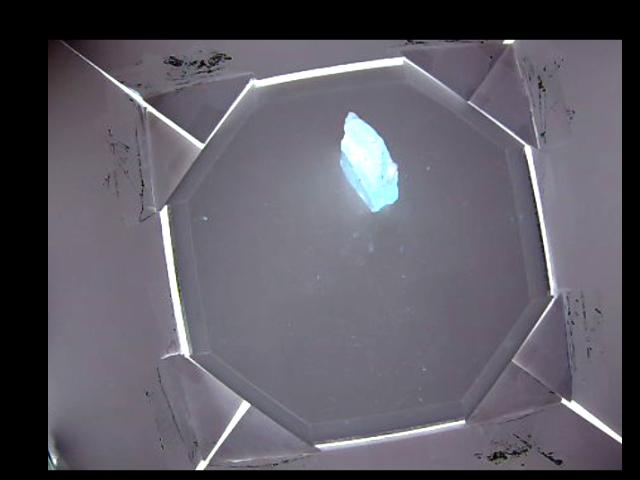Brisk: (342, 112, 397, 211)
